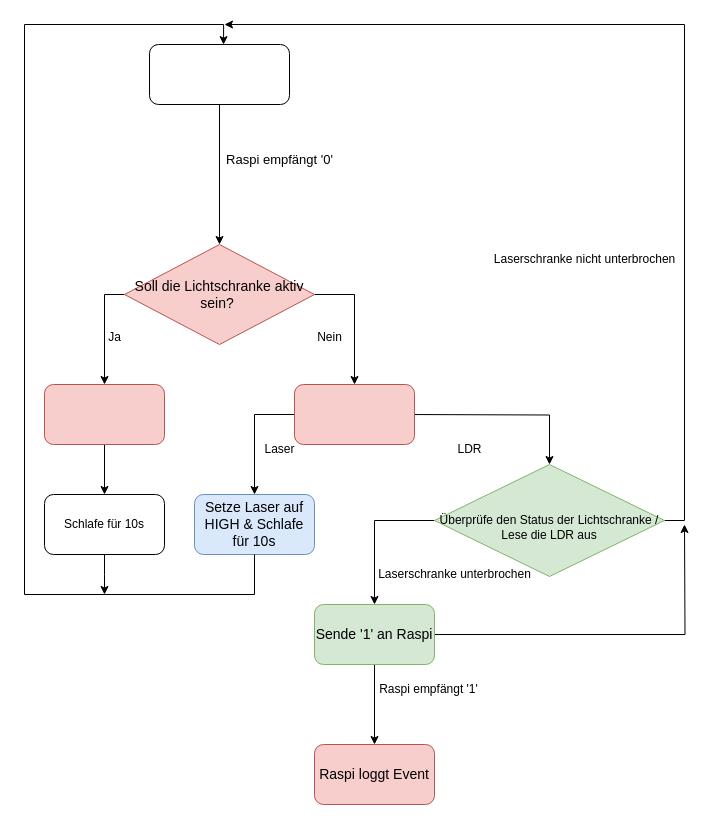
The diagram is 711 pixels wide and 822 high, and some of its shapes have lost their labels. Here are the shapes that lost their labels. From the top down, the centre of each, then its label:
At pixel 219 74: "ESP32 frägt, ob die Lichtschranke aktiv sein sollte".
At pixel 104 414: "Sende '0' zurück".
At pixel 354 414: "Sende '1' zurück".
